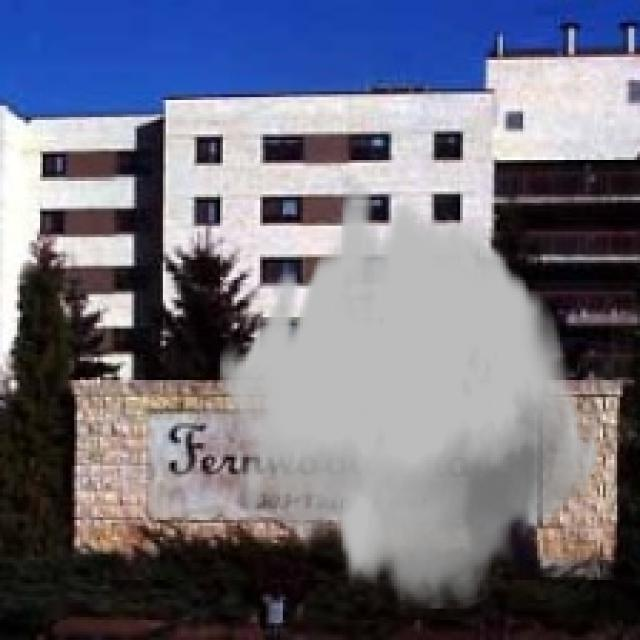smoke: (217, 183, 600, 608)
